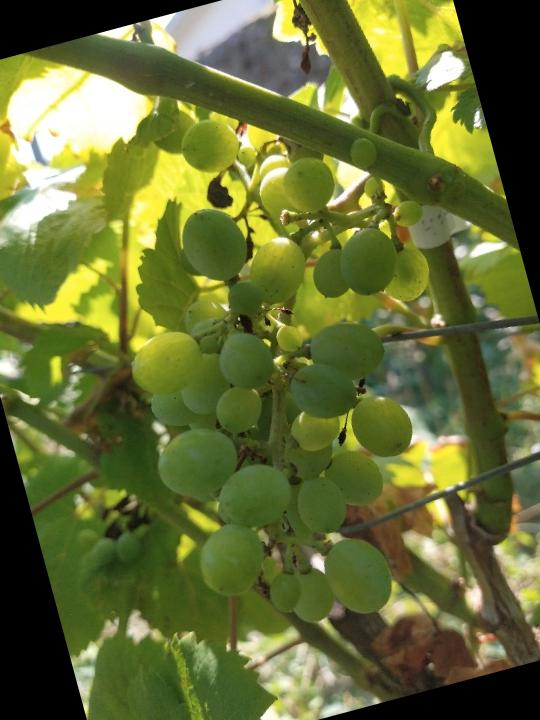grape: (65, 55, 515, 662)
